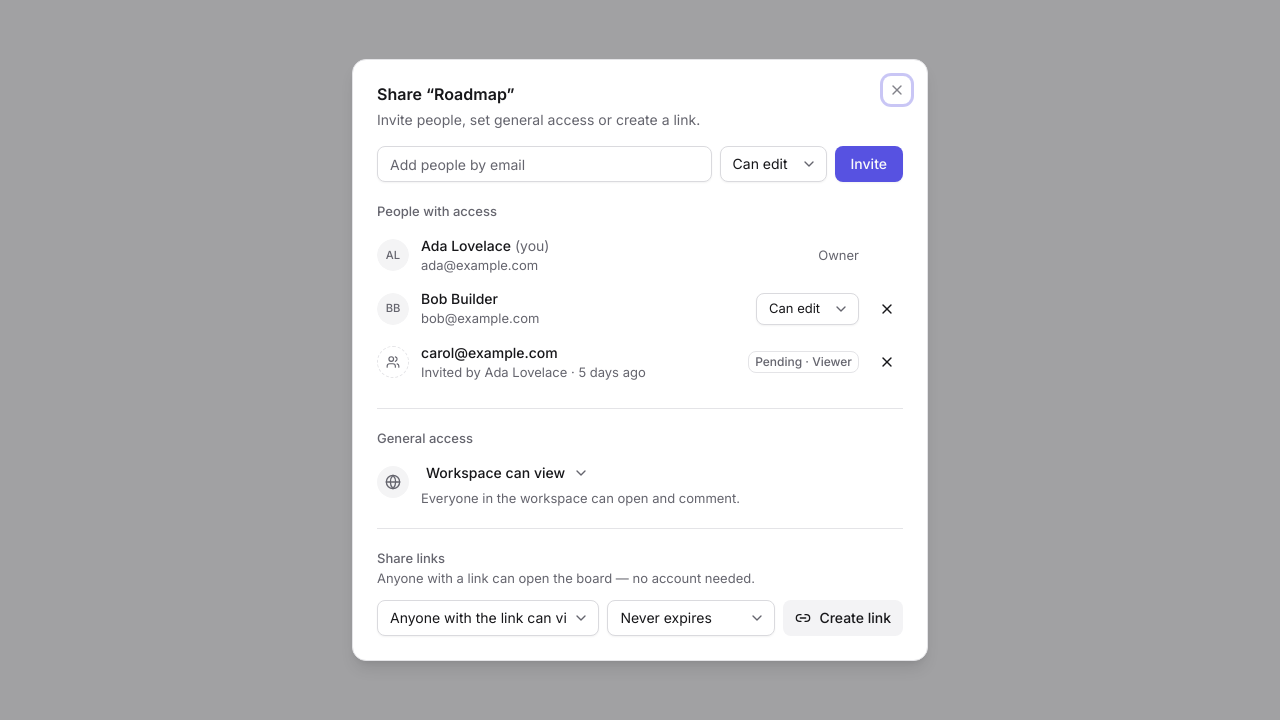
Test: ShareDialog › invites people by email with a role and optional message
Type "Dan@Example.com" into the field with test id "share-invite-email" at (544, 164), box [377,146,712,182]
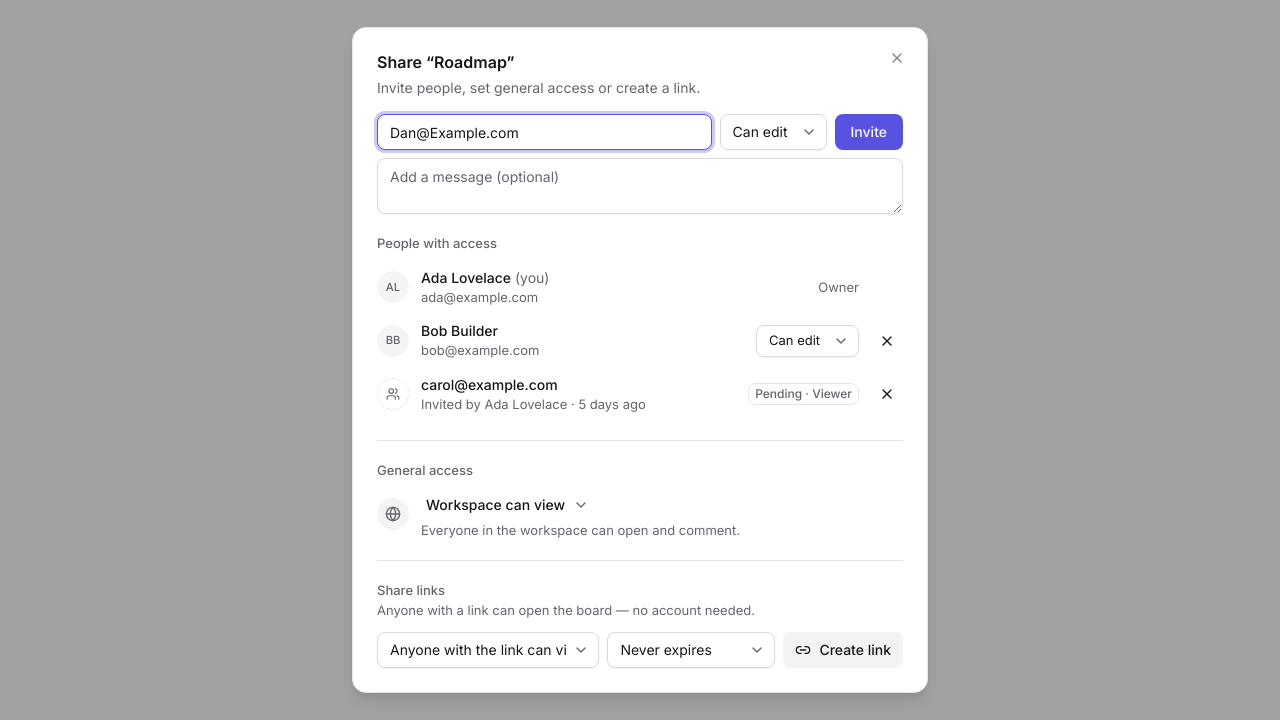
Select "Can view" in the dropdown with test id "share-invite-role" at (773, 132), box [720,114,826,150]
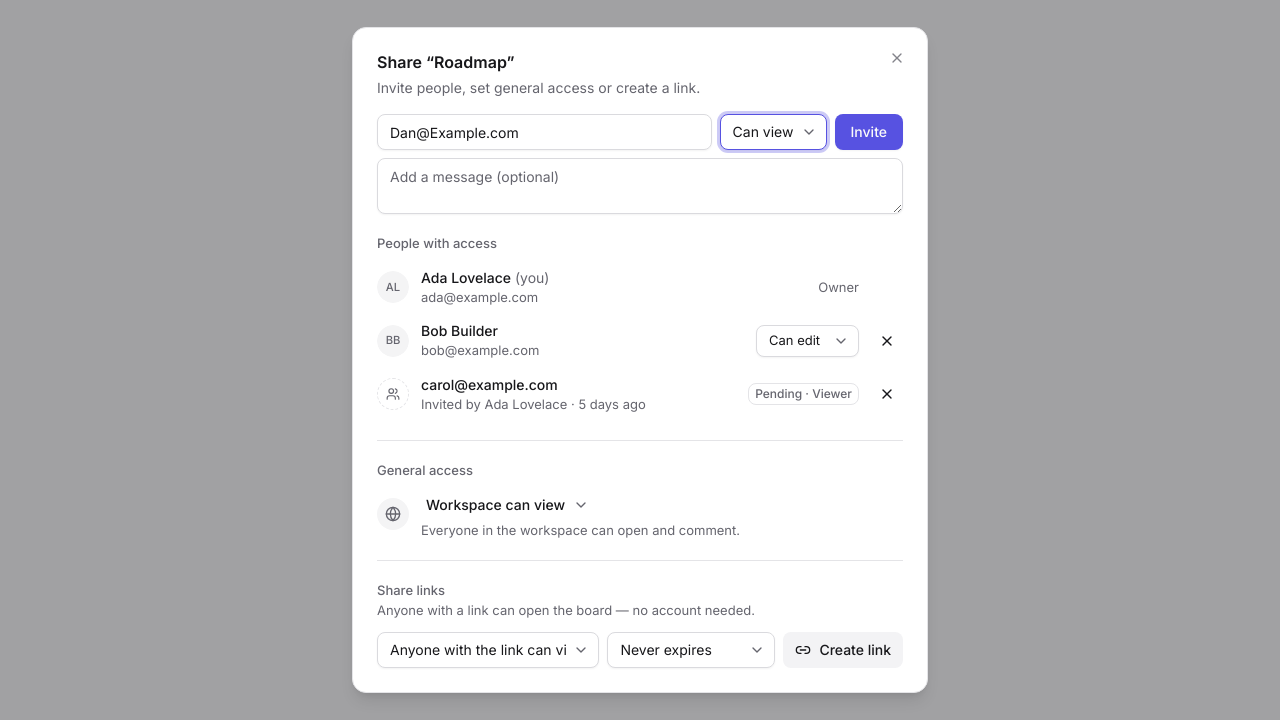
Type "Have a look!" into the text box with test id "share-invite-message" at (640, 186), box [377,158,903,214]
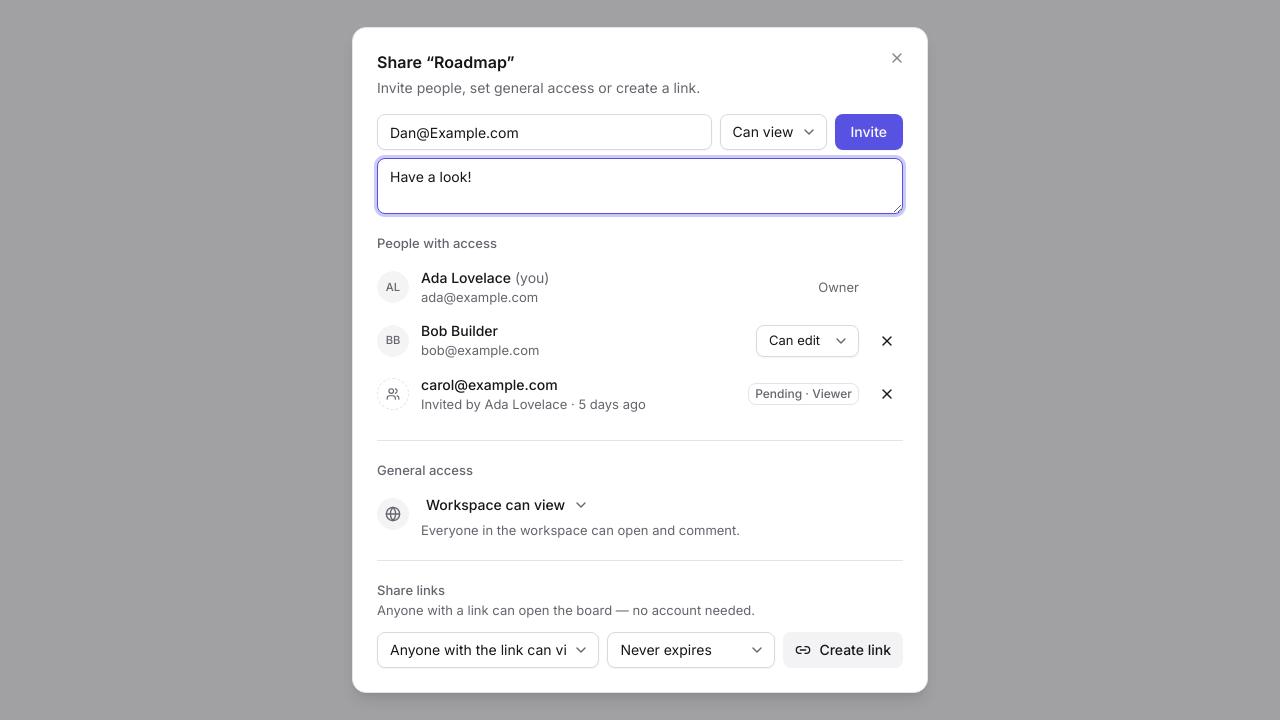
Click the button with test id "share-invite-submit" at (869, 132), box [834,114,903,150]
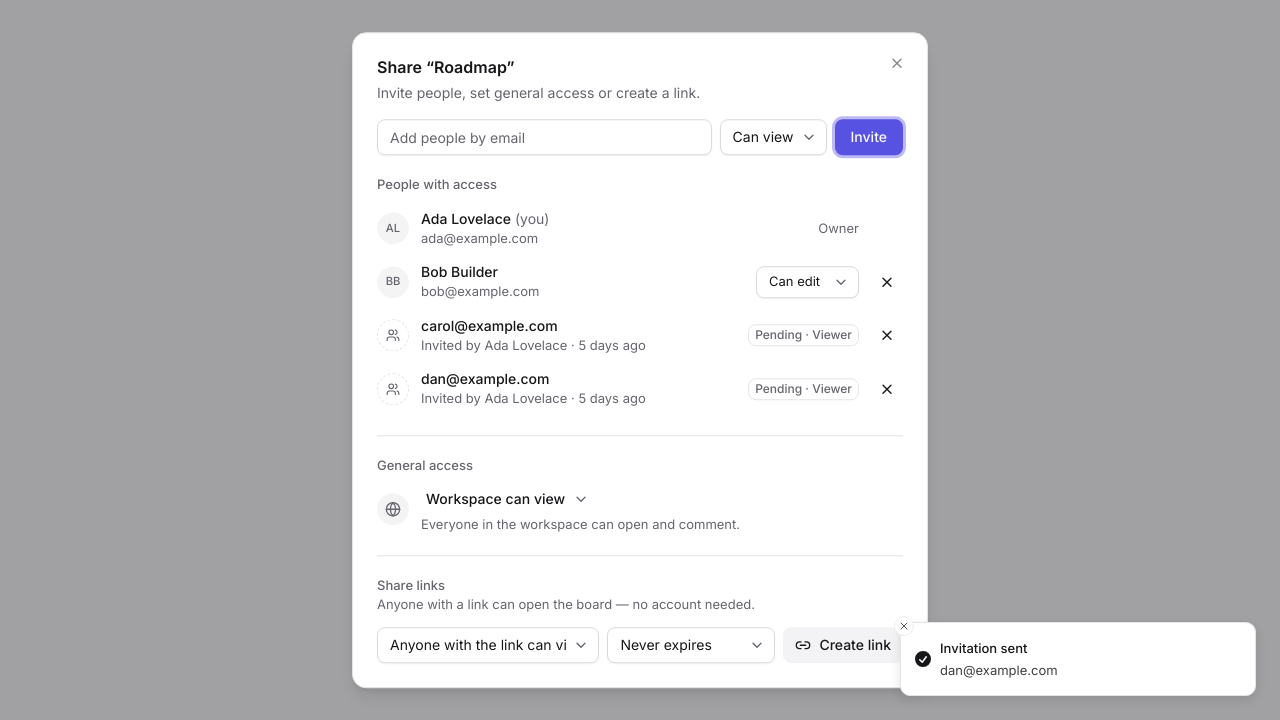
Expected: the number of list items with test id "share-pending" is 2, [369,310,911,361]; [369,363,911,415]
Expected: the field with test id "share-invite-email" is empty, [377,119,712,155]
